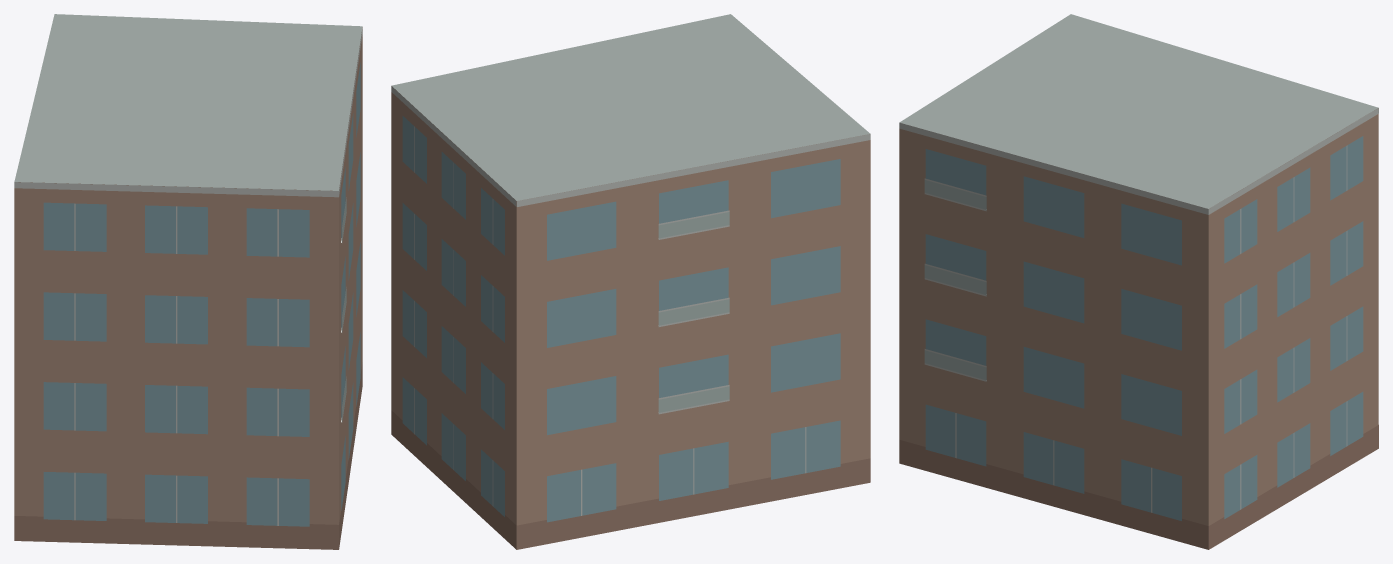
Rendered from survey-upis-33018175.glb.
3 views of the same model, side by side, from view 1: azimuth 30°, elevation 25°; view 2: azimuth 150°, elevation 25°; view 3: azimuth 270°, elevation 25° (orthographic). The views are drawn at different scales.
Parts seen in each view (by area): view 1: survey-upis-33018175.tmp; view 2: survey-upis-33018175.tmp; view 3: survey-upis-33018175.tmp.
Part boxes in pixels (x1=…): survey-upis-33018175.tmp: x1=14, y1=14, x2=362, y2=549; survey-upis-33018175.tmp: x1=391, y1=14, x2=870, y2=549; survey-upis-33018175.tmp: x1=899, y1=14, x2=1378, y2=549.
Bounding box in the file's own units: 17 × 13.85 × 17.66.
